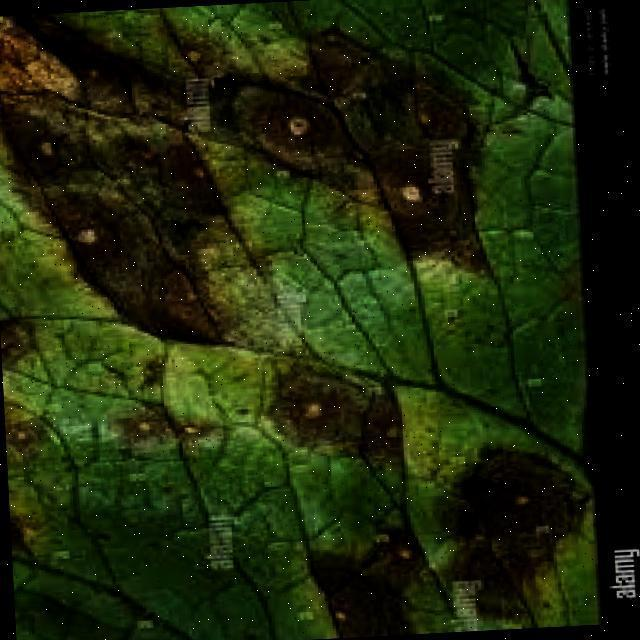Septoria_Blight_on_lettuce: (0, 11, 596, 638)
